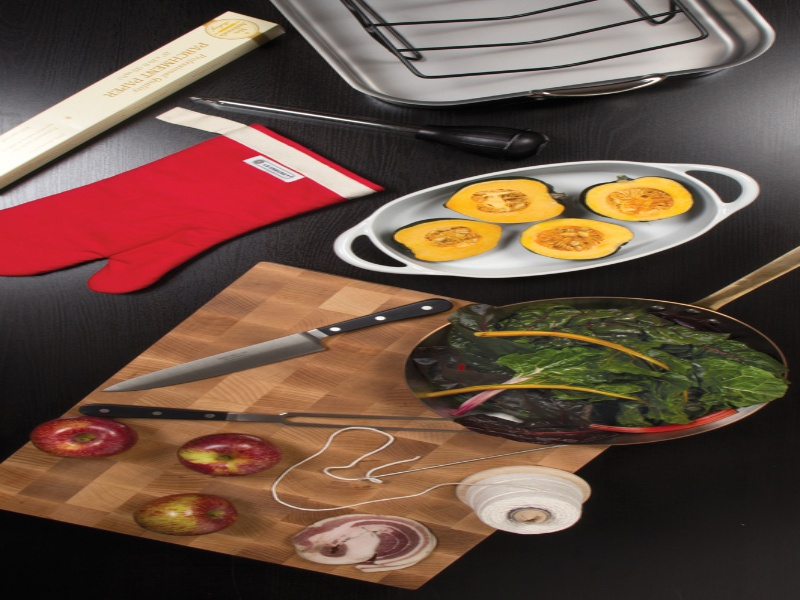knife: (103, 293, 455, 393)
